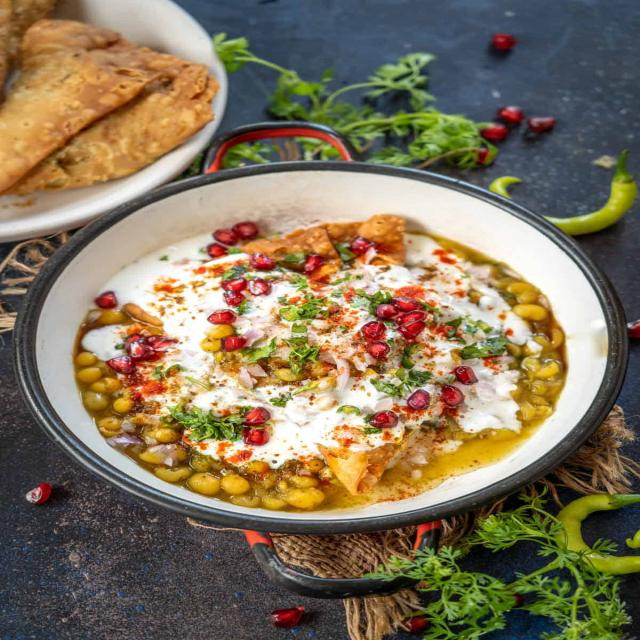SAMOSA: (0, 20, 219, 195)
